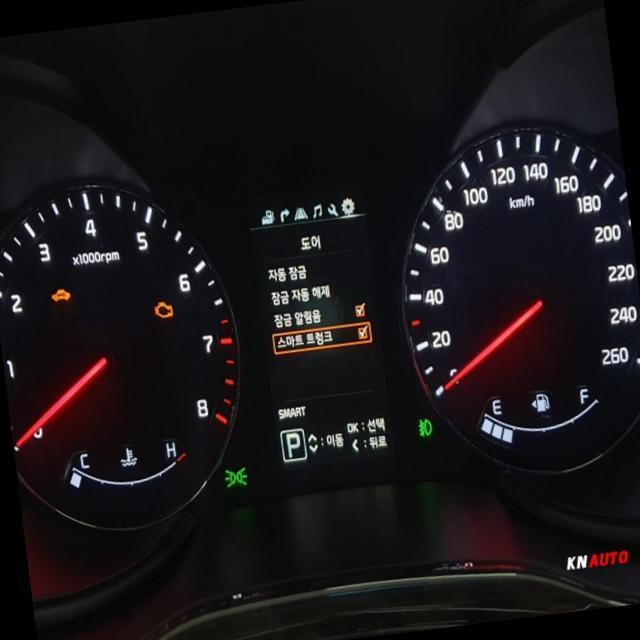FrontFogLight: (414, 414, 432, 438)
SideLamp: (221, 462, 248, 488)
